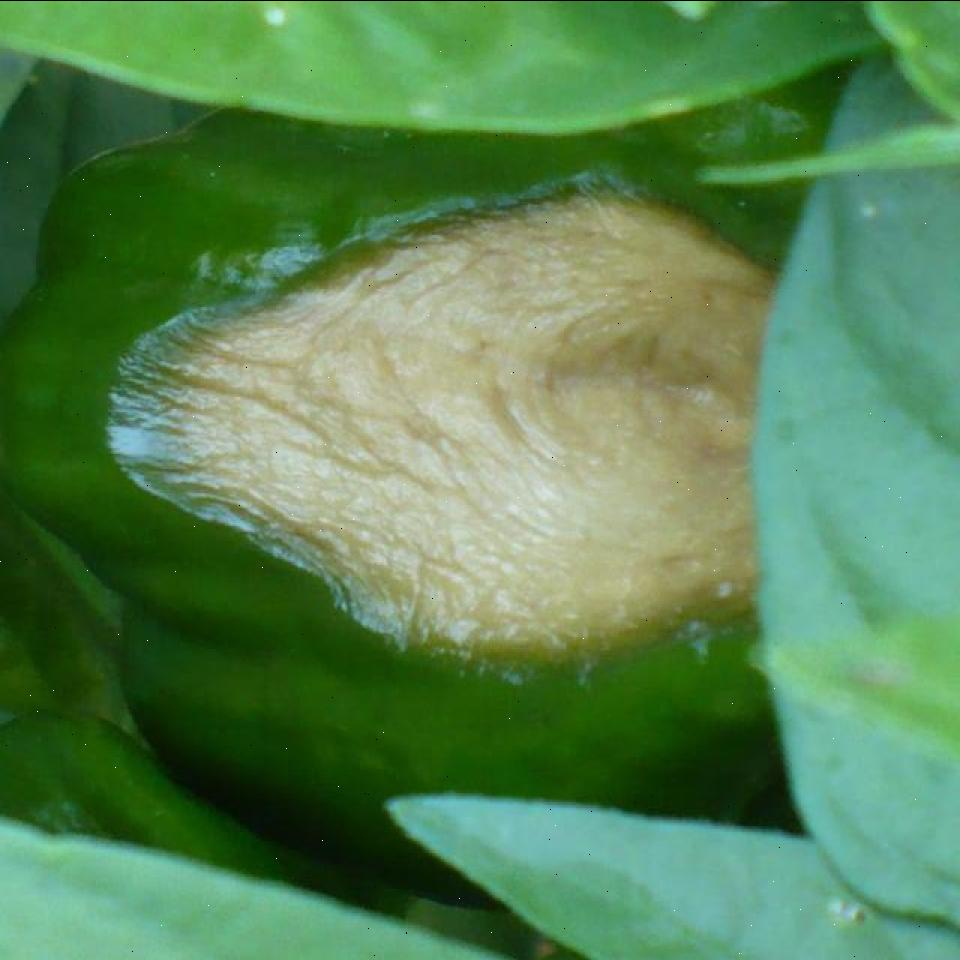Sunscald: (93, 178, 823, 682)
